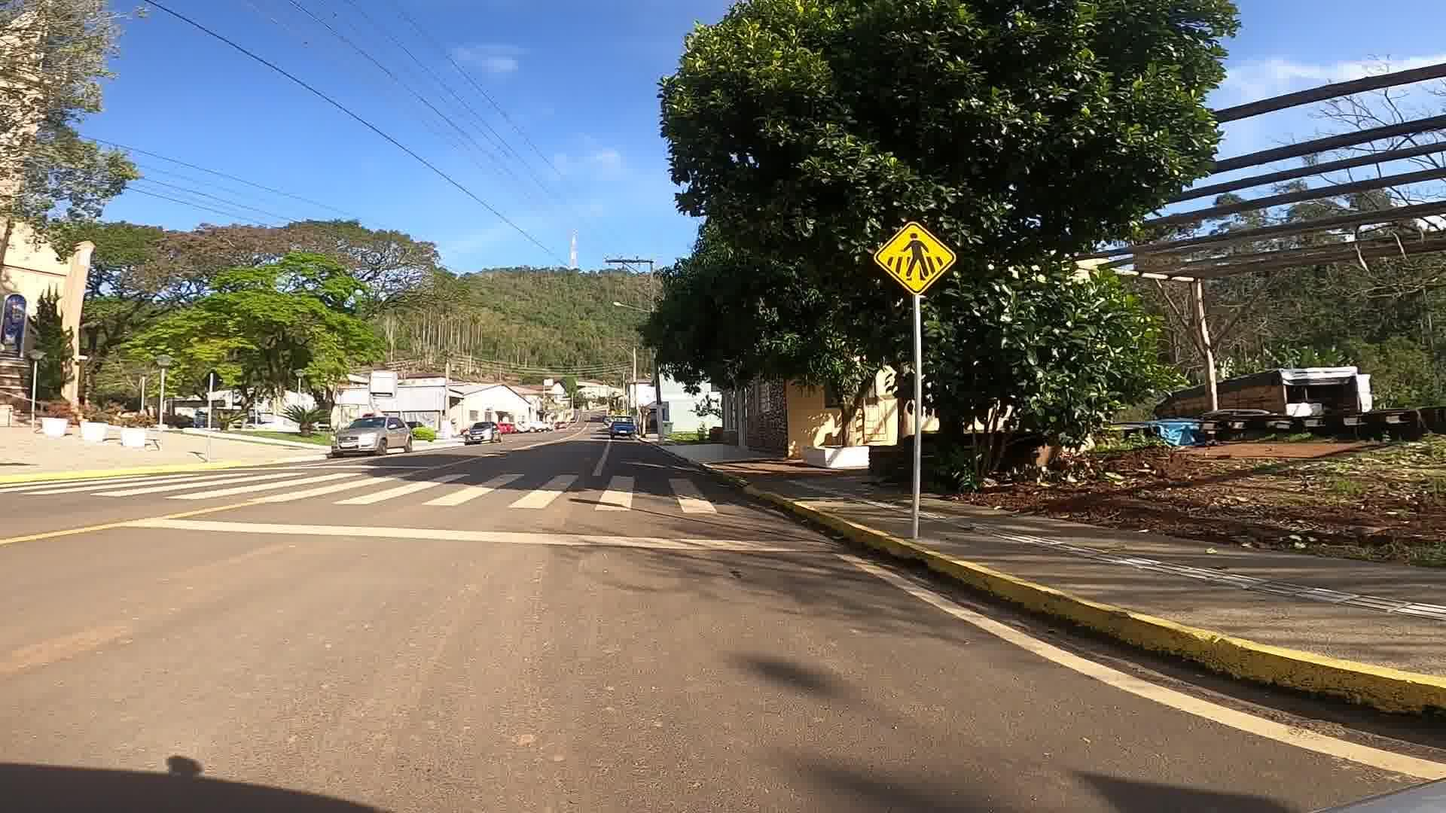A-32b: (870, 217, 960, 301)
